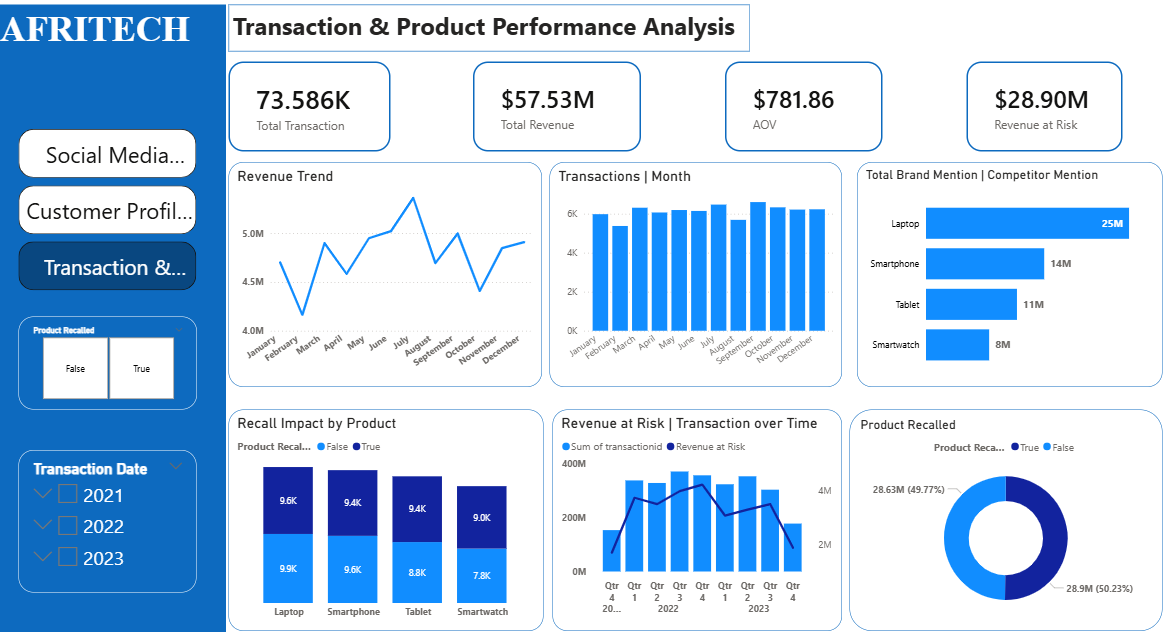

Layout of this report page (visuals, bound fields, positions):
{"tool":"powerbi","page":{"name":"Transaction & Product Performance Analysis","canvas":[1562,851],"ordinal":2},"visuals":[{"type":"cardVisual","fields":{"Data":["CountNonNull(public transactiondata.transactionid)"]},"box":[310,82,216,120],"z":0},{"type":"cardVisual","fields":{"Data":["Sum(public transactiondata.purchaseamount)"]},"box":[637,81.3,224,120],"z":1000},{"type":"cardVisual","fields":{"Data":["Avg(public transactiondata.purchaseamount)"]},"box":[972.8,81.3,210,120],"z":2000},{"type":"cardVisual","fields":{"Data":["public transactiondata.Revenue at Riske"]},"box":[1294.7,81.3,208,120],"z":3000},{"type":"donutChart","title":"Product Recalled","fields":{"Category":["public transactiondata.productrecalled"],"Y":["public transactiondata.Total Revenue1"]},"box":[1137.5,545,417.5,295],"z":6000},{"type":"lineChart","title":"Revenue Trend","fields":{"Category":["public transactiondata.transactiondate.Variation.Date Hierarchy.Month"],"Y":["Sum(public transactiondata.purchaseamount)"]},"box":[310,216,418,300],"z":7000},{"type":"clusteredColumnChart","title":"Transactions | Month","fields":{"Category":["public transactiondata.transactiondate.Variation.Date Hierarchy.Month"],"Y":["CountNonNull(public transactiondata.transactionid)"]},"box":[738,216,390,300],"z":8000},{"type":"clusteredBarChart","title":"Total Brand Mention | Competitor Mention","fields":{"Category":["public transactiondata.productpurchased"],"Y":["Sum(public transactiondata.purchaseamount)"]},"box":[1147.5,215,407.5,300],"z":9000},{"type":"columnChart","title":"Recall Impact by Product","fields":{"Category":["public transactiondata.productpurchased"],"Y":["CountNonNull(public transactiondata.transactionid)"],"Series":["public transactiondata.productrecalled"]},"box":[310,545,420,295],"z":11000},{"type":"lineClusteredColumnComboChart","title":"Revenue at Risk | Transaction over Time","fields":{"Y":["Sum(public transactiondata.transactionid)"],"Y2":["public transactiondata.Revenue at Risk"],"Category":["public transactiondata.transactiondate.Variation.Date Hierarchy.Year","public transactiondata.transactiondate.Variation.Date Hierarchy.Quarter","public transactiondata.transactiondate.Variation.Date Hierarchy.Month","public transactiondata.transactiondate.Variation.Date Hierarchy.Day"]},"box":[742.9,545.7,385.7,295],"z":12000},{"type":"textbox","box":[0,5,306.7,836.7],"z":12500},{"type":"textbox","box":[310,5,695,62.5],"z":13000},{"type":"slicer","fields":{"Values":["public transactiondata.productrecalled"]},"box":[30,422,238,124],"z":15000},{"type":"slicer","fields":{"Values":["public transactiondata.transactiondate.Variation.Date Hierarchy.Year","public transactiondata.transactiondate.Variation.Date Hierarchy.Quarter","public transactiondata.transactiondate.Variation.Date Hierarchy.Month","public transactiondata.transactiondate.Variation.Date Hierarchy.Day"]},"box":[30,600,237.5,190],"z":16000},{"type":"pageNavigator","box":[30,172.5,237.5,217.5],"z":17000}]}

Visuals, with their boxes in screenshot pixels (x1, y1, x2, y2), scaled from the page's 1562x851 canvas onto the 1167x633 screenshot:
cardVisual - CountNonNull(public transactiondata.transactionid): locate(232, 61, 393, 150)
cardVisual - Sum(public transactiondata.purchaseamount): locate(476, 60, 643, 150)
cardVisual - Avg(public transactiondata.purchaseamount): locate(727, 60, 884, 150)
cardVisual - public transactiondata.Revenue at Riske: locate(967, 60, 1123, 150)
"Product Recalled" donutChart: locate(850, 405, 1162, 625)
"Revenue Trend" lineChart: locate(232, 161, 544, 384)
"Transactions | Month" clusteredColumnChart: locate(551, 161, 843, 384)
"Total Brand Mention | Competitor Mention" clusteredBarChart: locate(857, 160, 1162, 383)
"Recall Impact by Product" columnChart: locate(232, 405, 545, 625)
"Revenue at Risk | Transaction over Time" lineClusteredColumnComboChart: locate(555, 406, 843, 625)
textbox: locate(0, 4, 229, 626)
textbox: locate(232, 4, 751, 50)
slicer - public transactiondata.productrecalled: locate(22, 314, 200, 406)
slicer - public transactiondata.transactiondate.Variation.Date Hierarchy.Year x public transactiondata.transactiondate.Variation.Date Hierarchy.Quarter: locate(22, 446, 200, 588)
pageNavigator: locate(22, 128, 200, 290)
